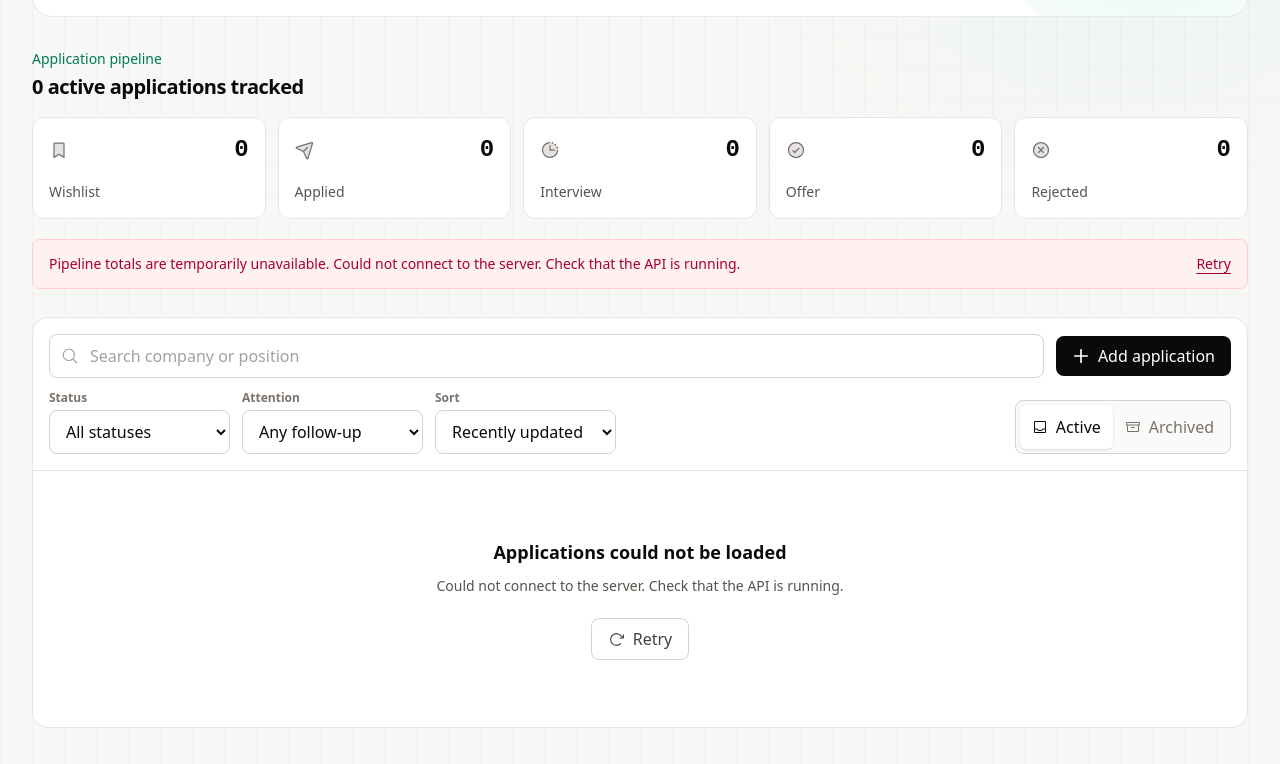
Test: App › shows an API error and can retry
This screenshot has width=1280, height=764.
(page scrolled)
Expected: the heading "Applications could not be loaded" is shown, x1=494 y1=538 x2=787 y2=566
Click the button with aria-label "Retry applications": (640, 639) x1=591 y1=618 x2=689 y2=660
(page scrolled)
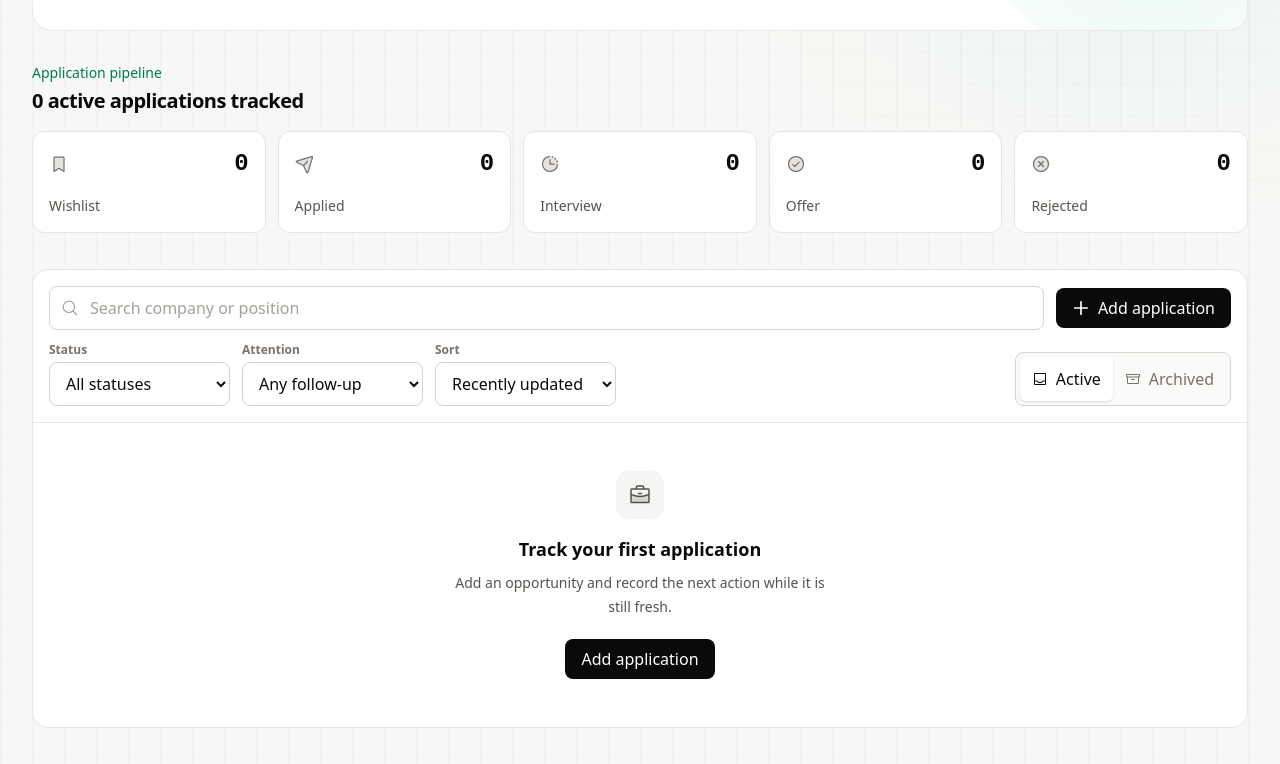
Expected: the heading "Track your first application" is shown, x1=519 y1=535 x2=761 y2=563
